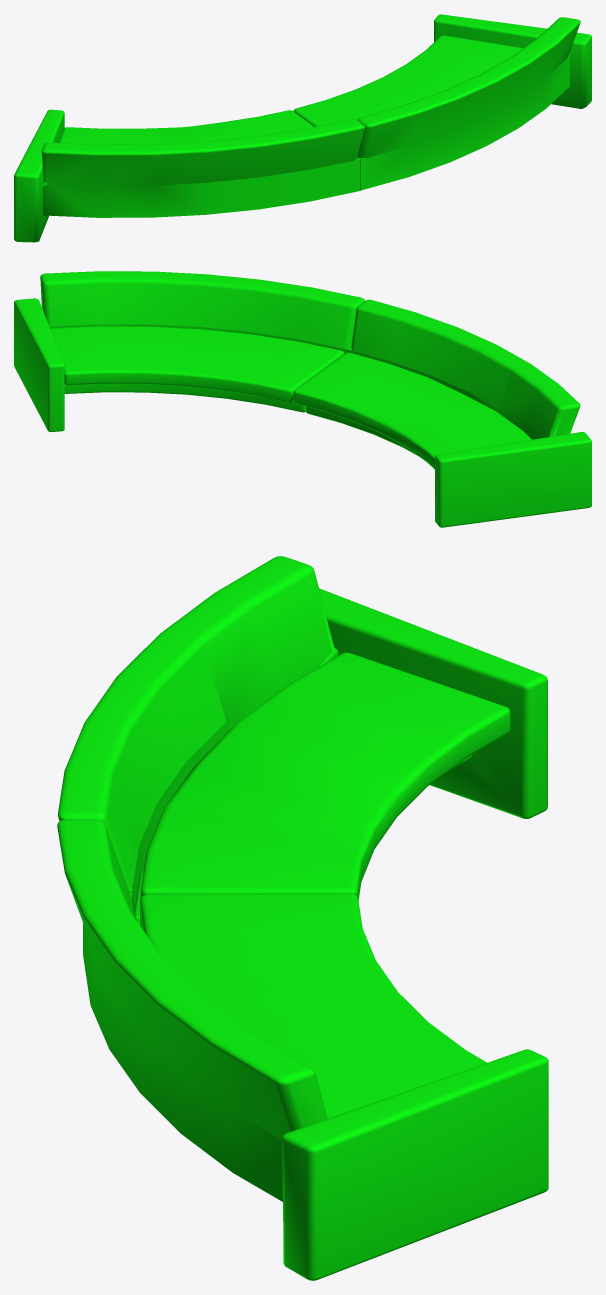
The model's file is couch v2.FBX.
The picture shows the model from 3 angles, top to bottom: view 1: azimuth 30°, elevation 25°; view 2: azimuth 150°, elevation 25°; view 3: azimuth 270°, elevation 25°; orthographic projection. The views are drawn at different scales.
Visible parts, largest first — view 1: couch; view 2: couch; view 3: couch.
Part boxes in pixels (x1,y1,x2,y2): couch: [14, 14, 591, 242]; couch: [14, 271, 591, 527]; couch: [57, 556, 548, 1280].
Size of the model in its own units: 303 by 46.78 by 112.
